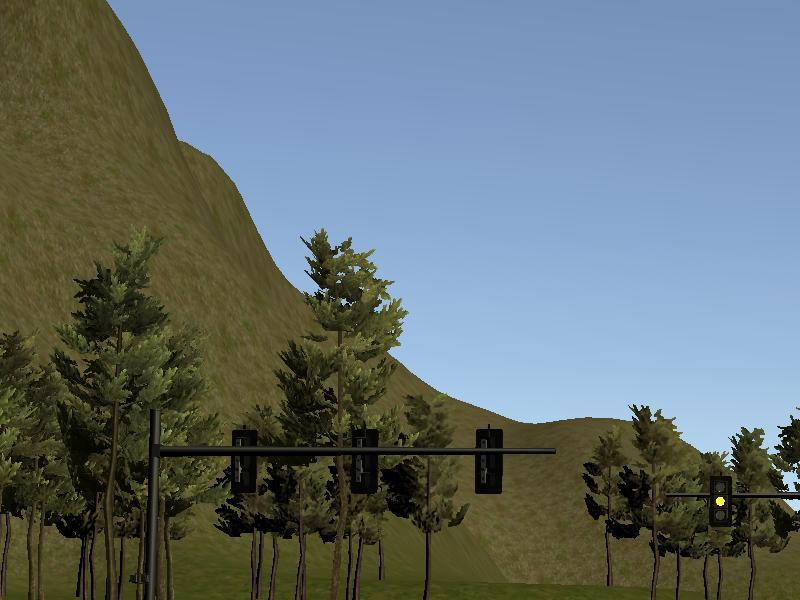Yellow: (709, 475, 732, 526)
